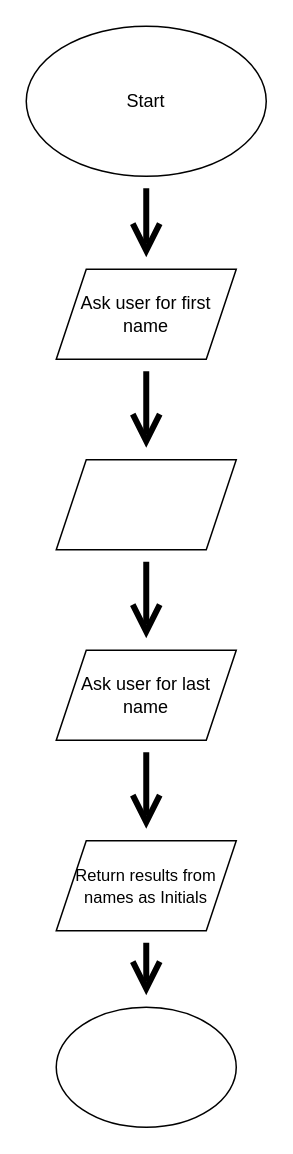
Some shapes in this 293 by 1154 pixel diagram are drawn without their labels. The shapes that lost their labels are listed below. From the top down, each one's box as (x1, y1, x2, y2) in pixels, then its label:
(55, 458, 236, 550): Ask user for middle name
(55, 1006, 236, 1127): End
